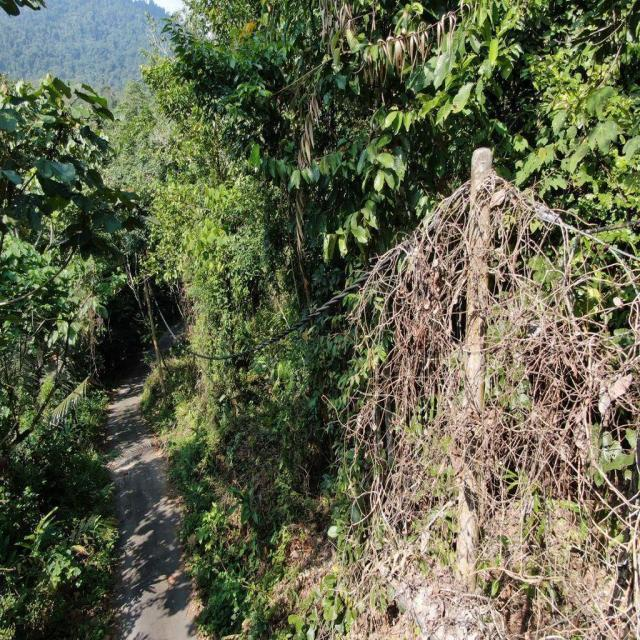critical vegetation: (337, 171, 602, 606)
